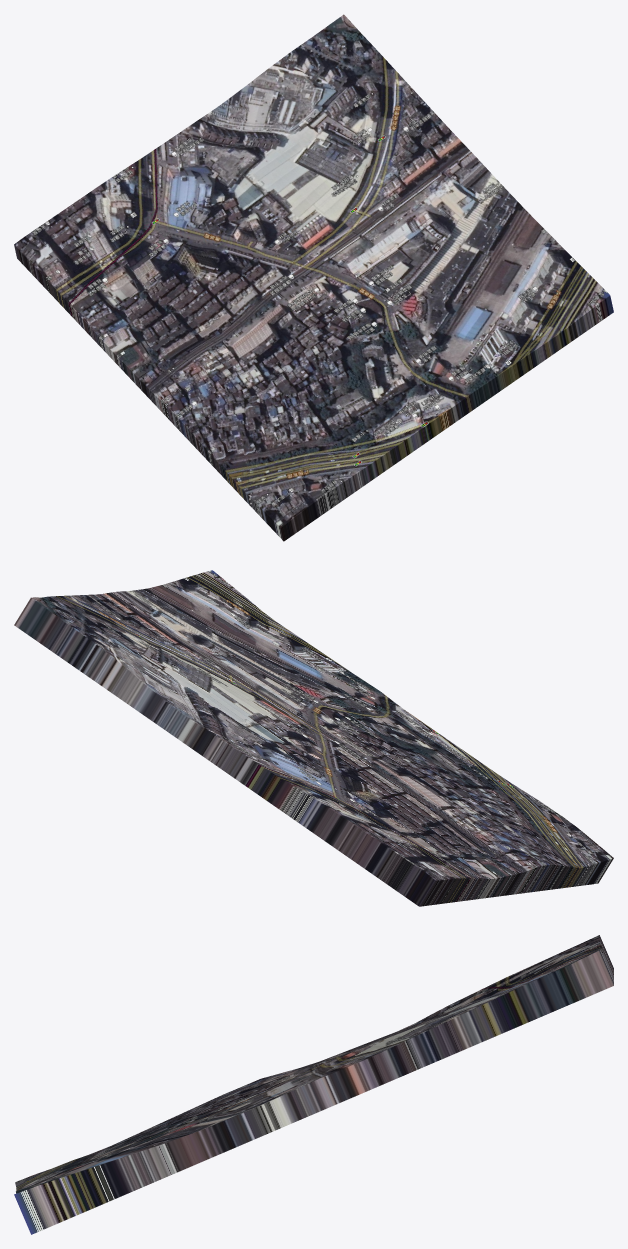
3 renders of one model, top to bottom at view 1: azimuth 30°, elevation 25°; view 2: azimuth 150°, elevation 25°; view 3: azimuth 270°, elevation 25°, orthographic. The views are drawn at different scales.
Parts seen in each view (by area): view 1: 0_4_19; view 2: 0_4_19; view 3: 0_4_19.
Boxes of the visible parts, x1=… form: 0_4_19: x1=14, y1=14, x2=613, y2=541; 0_4_19: x1=14, y1=570, x2=613, y2=906; 0_4_19: x1=14, y1=935, x2=613, y2=1234.
Size of the model in its own units: 604 by 458 by 558.
1 material, 1 textured.
